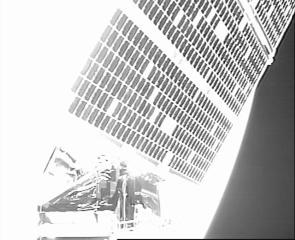solar: (65, 0, 295, 187)
